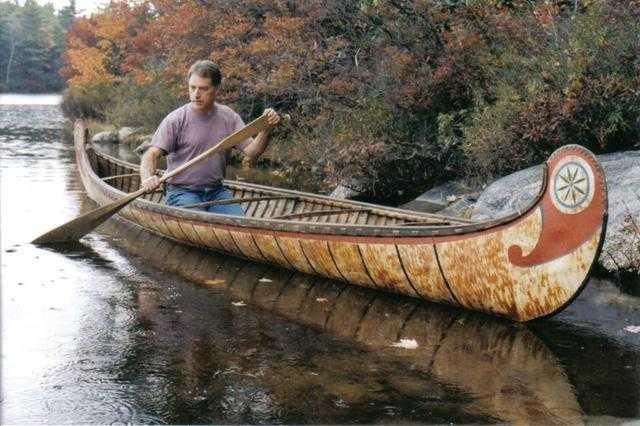kayak: (65, 130, 610, 327)
